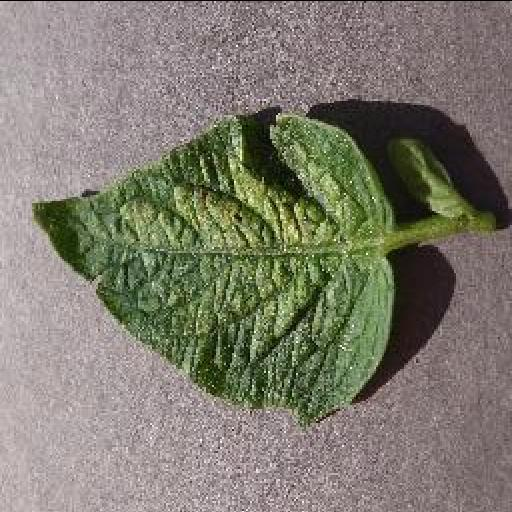disease_tomato: (32, 110, 394, 420)
